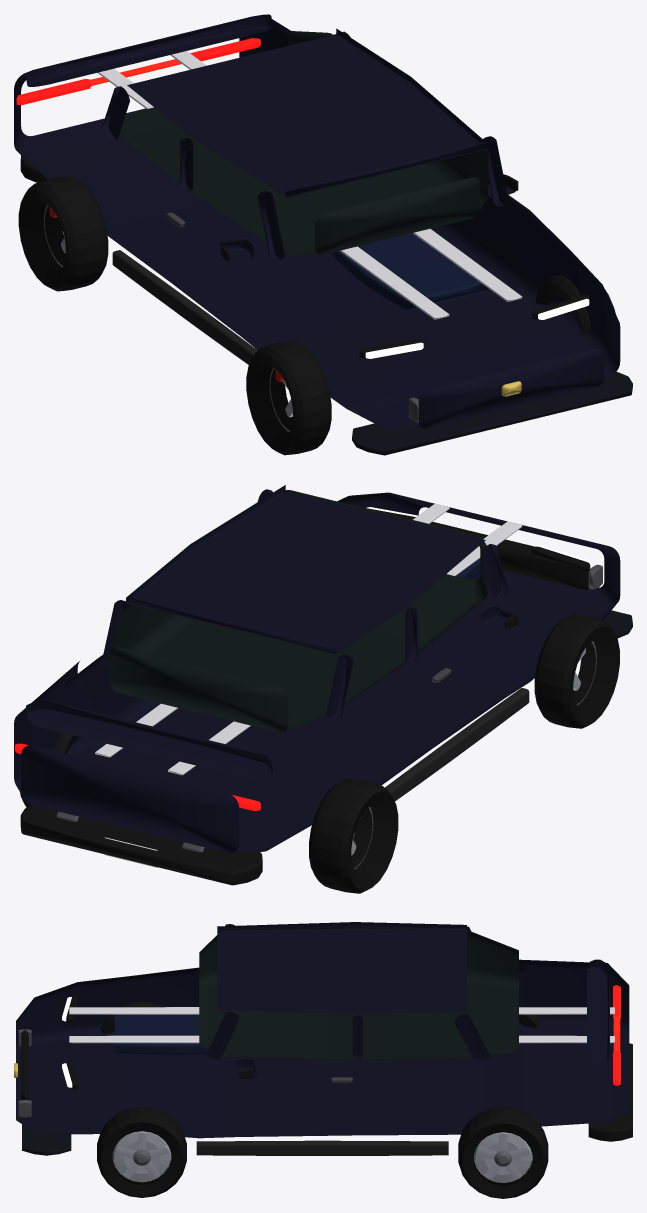
Rendered from mustang_roush_1996.glb.
3 views of the same model, one above another, from view 1: azimuth 30°, elevation 25°; view 2: azimuth 150°, elevation 25°; view 3: azimuth 270°, elevation 25° (orthographic). The views are drawn at different scales.
Visible parts, largest first — view 1: root, wheelRL, wheelFL, wheelFR; view 2: root, wheelRL, wheelFL; view 3: root, wheelRR, wheelFR, wheelFL.
Part boxes in pixels (x1,y1,x2,y2): root: (14, 14, 632, 455); wheelRL: (18, 176, 108, 291); wheelFL: (246, 341, 331, 455); wheelFR: (535, 275, 615, 334); root: (14, 485, 632, 885); wheelRL: (309, 778, 398, 893); wheelFL: (534, 614, 619, 728); root: (14, 922, 632, 1155); wheelRR: (458, 1106, 548, 1198); wheelFR: (97, 1107, 186, 1197); wheelFL: (101, 1002, 163, 1034).
Size of the model in its own units: 2.35 by 1.46 by 4.76.
